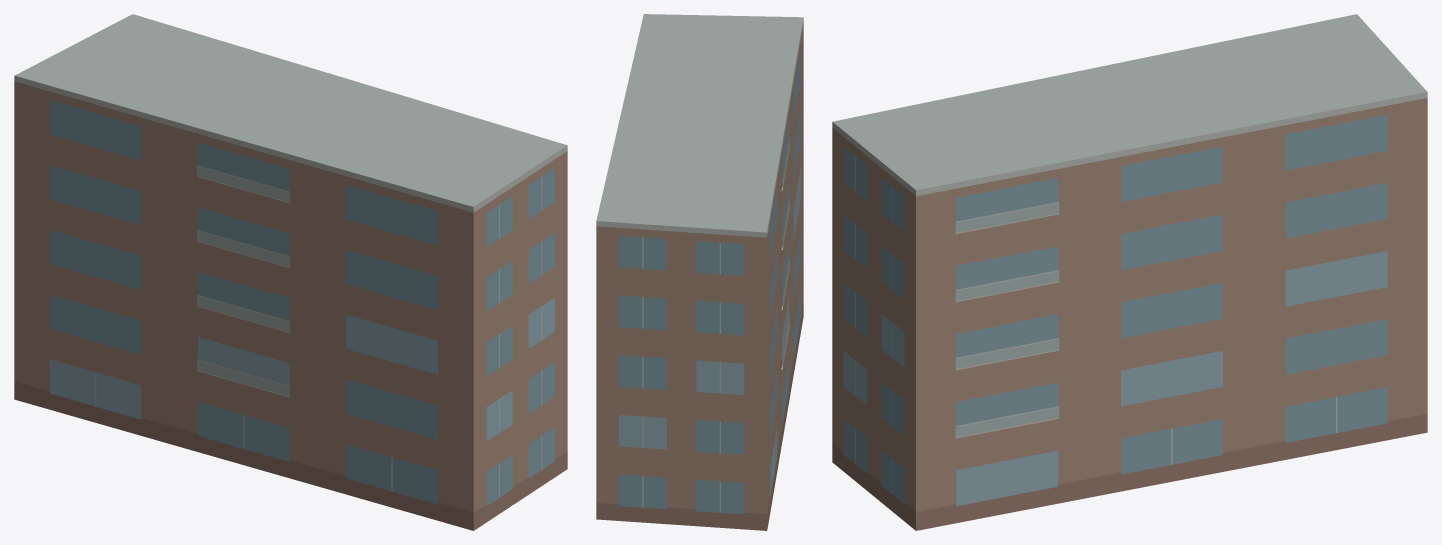
The model's file is survey-upis-32997745.glb.
The picture shows the model from 3 angles, left to right: view 1: azimuth 30°, elevation 25°; view 2: azimuth 150°, elevation 25°; view 3: azimuth 270°, elevation 25°; orthographic projection. The views are drawn at different scales.
Parts seen in each view (by area): view 1: survey-upis-32997745.tmp; view 2: survey-upis-32997745.tmp; view 3: survey-upis-32997745.tmp.
Part boxes in pixels (x1=…): survey-upis-32997745.tmp: x1=14, y1=14, x2=567, y2=530; survey-upis-32997745.tmp: x1=596, y1=14, x2=803, y2=530; survey-upis-32997745.tmp: x1=832, y1=14, x2=1427, y2=530.
Bounding box in the file's own units: 15.44 × 13.9 × 22.03.
